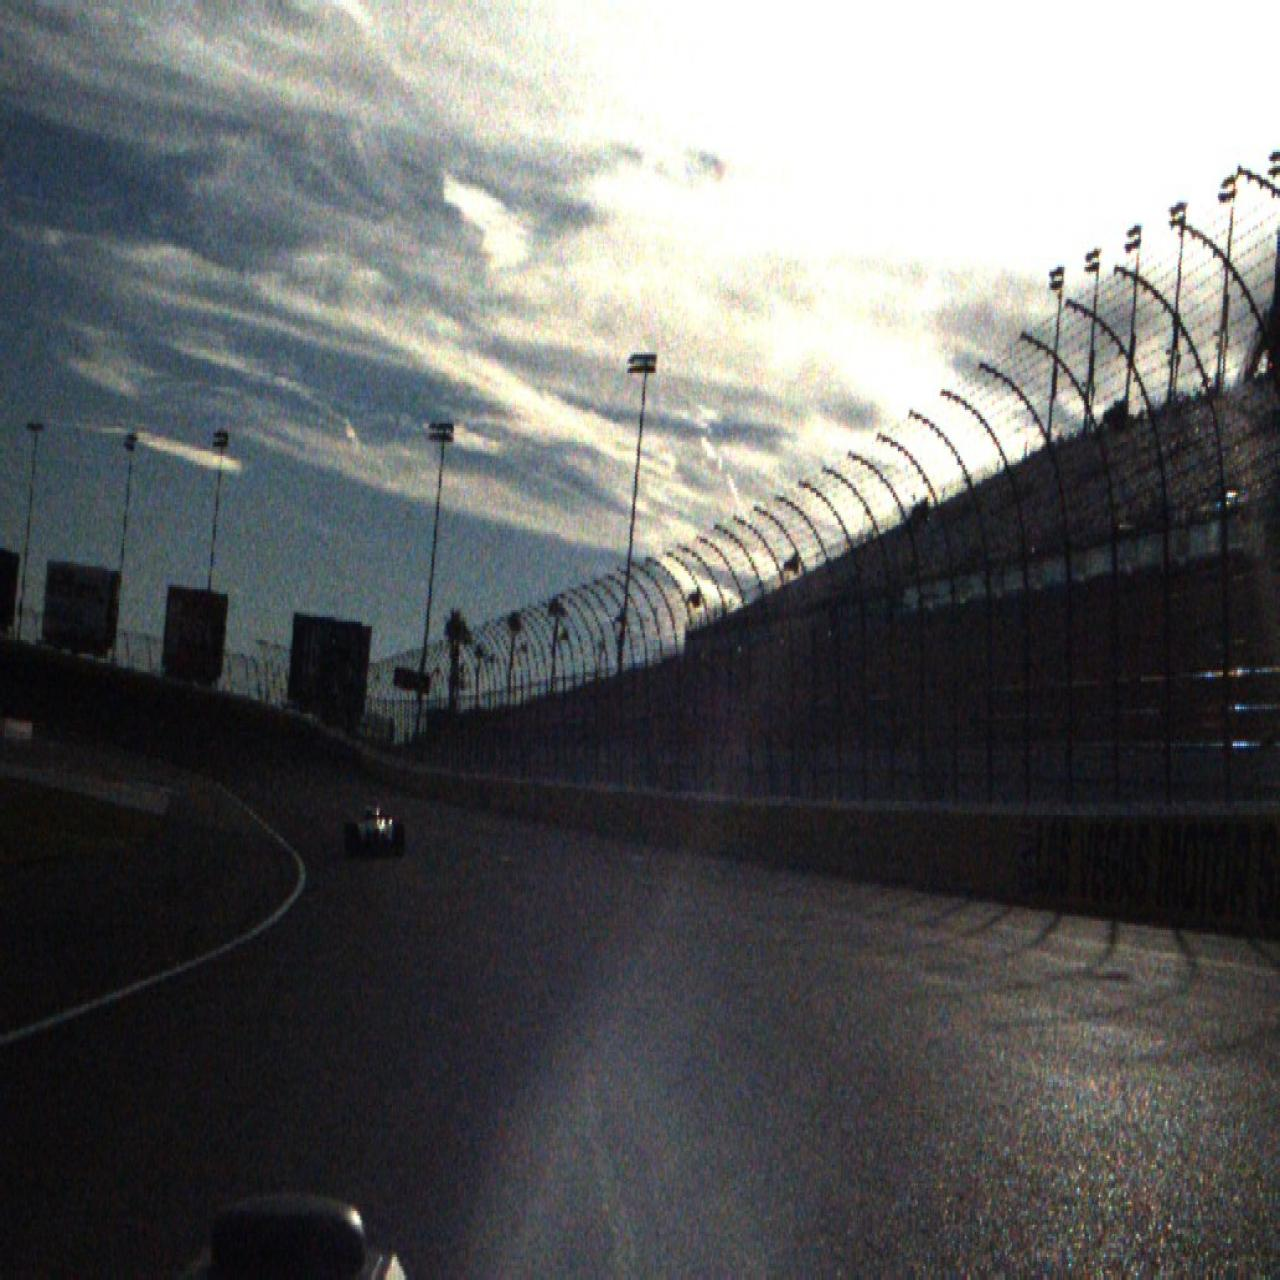AV: (343, 791, 406, 858)
Wheel: (343, 824, 359, 857), (394, 824, 406, 858)
